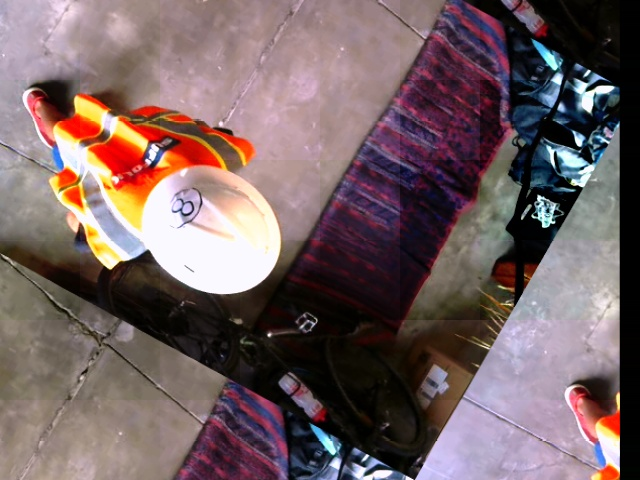eight: (157, 180, 208, 236)
